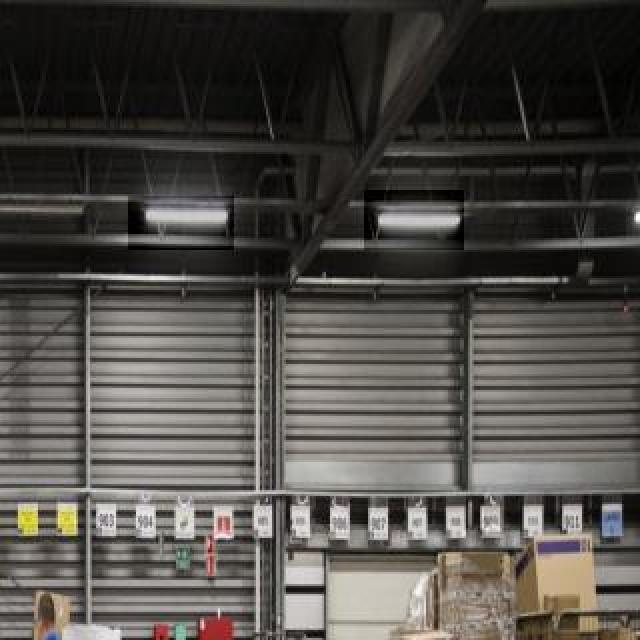fluorescent tube: (366, 198, 466, 255), (127, 197, 240, 246)
